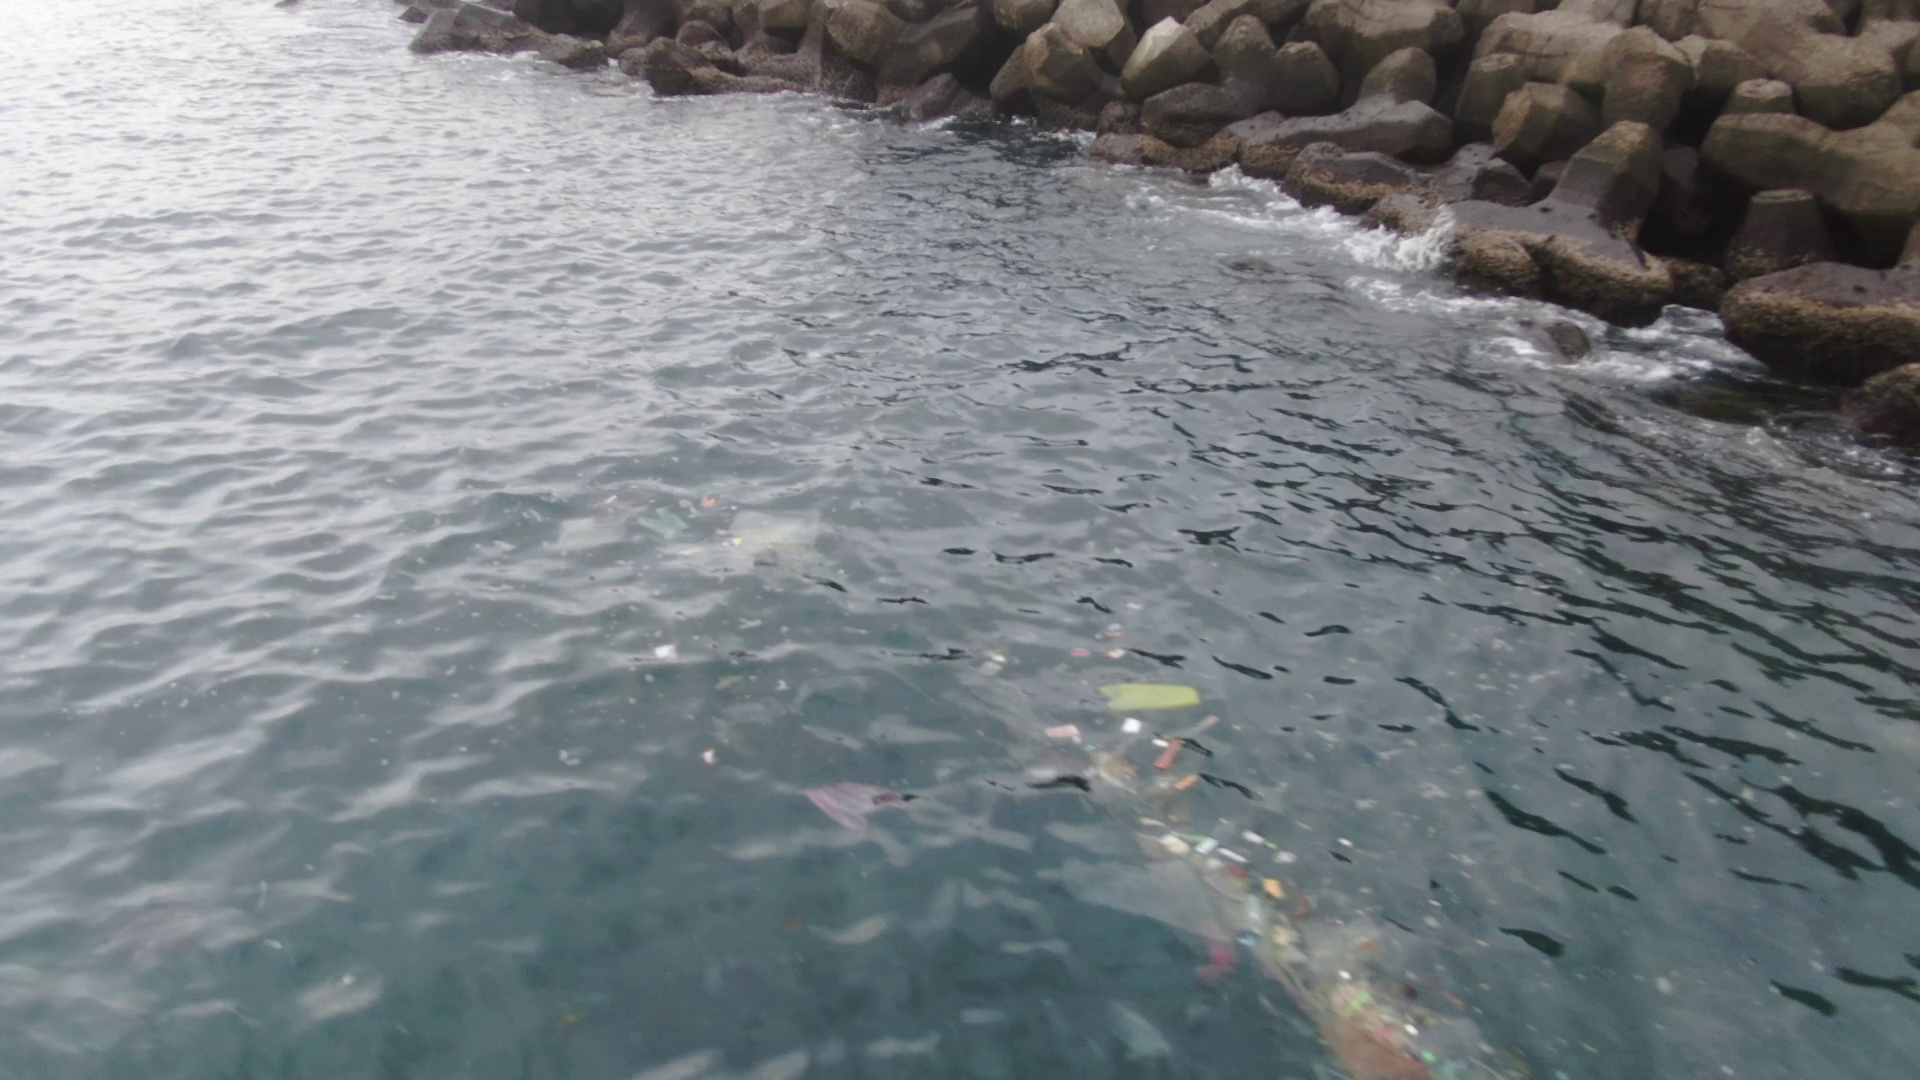garbage: (1215, 909, 1534, 1080), (973, 624, 1221, 736), (543, 479, 738, 585), (1073, 731, 1228, 824), (1145, 829, 1300, 909), (798, 767, 920, 836)
